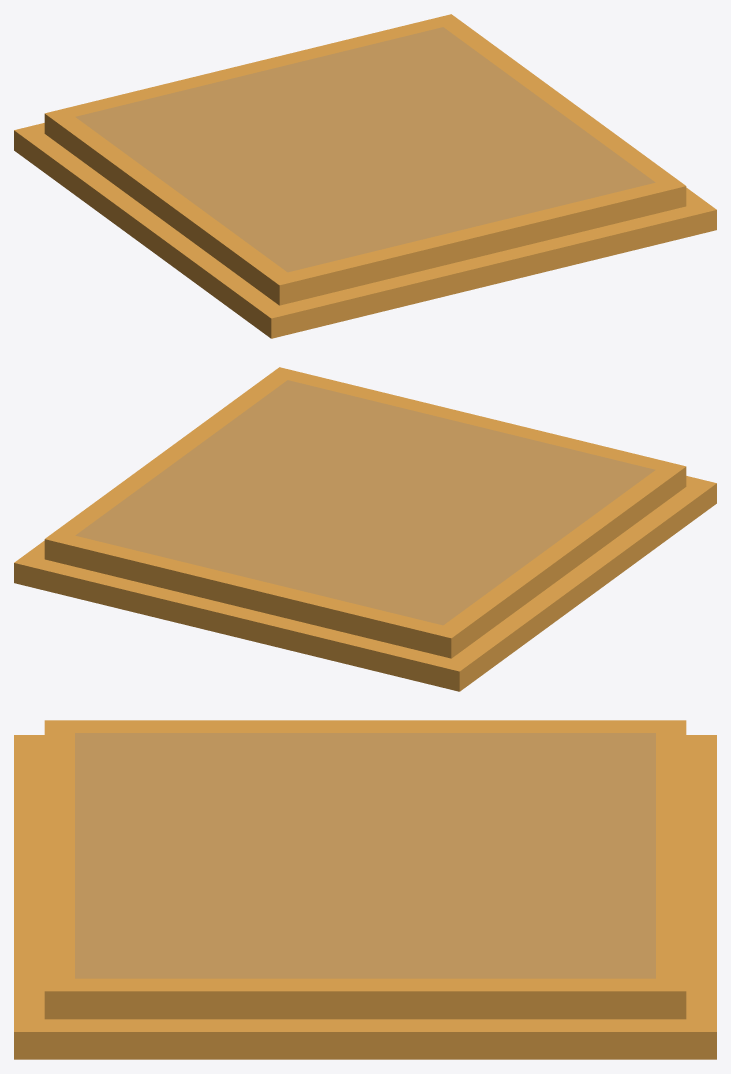
The model's file is hat floor.gltf.
3 renders of one model, top to bottom at view 1: azimuth 30°, elevation 25°; view 2: azimuth 150°, elevation 25°; view 3: azimuth 270°, elevation 25°, orthographic. The views are drawn at different scales.
Visible parts, largest first — view 1: Layer.1; view 2: Layer.1; view 3: Layer.1.
Boxes of the visible parts, box(x1,y1,x2,y2) form: Layer.1: box(14, 14, 716, 338); Layer.1: box(14, 367, 716, 691); Layer.1: box(14, 720, 716, 1059).
Size of the model in its own units: 23 by 2 by 23.
Materials: 1 (1 with a texture image).
